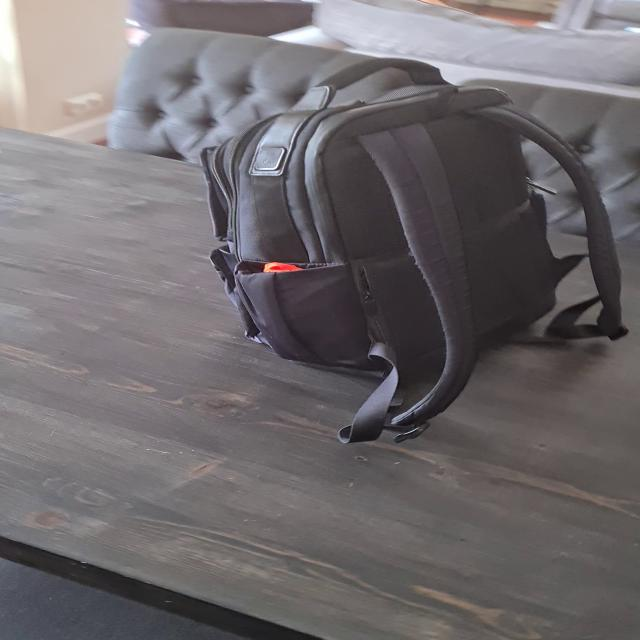backpack: (202, 66, 614, 387)
